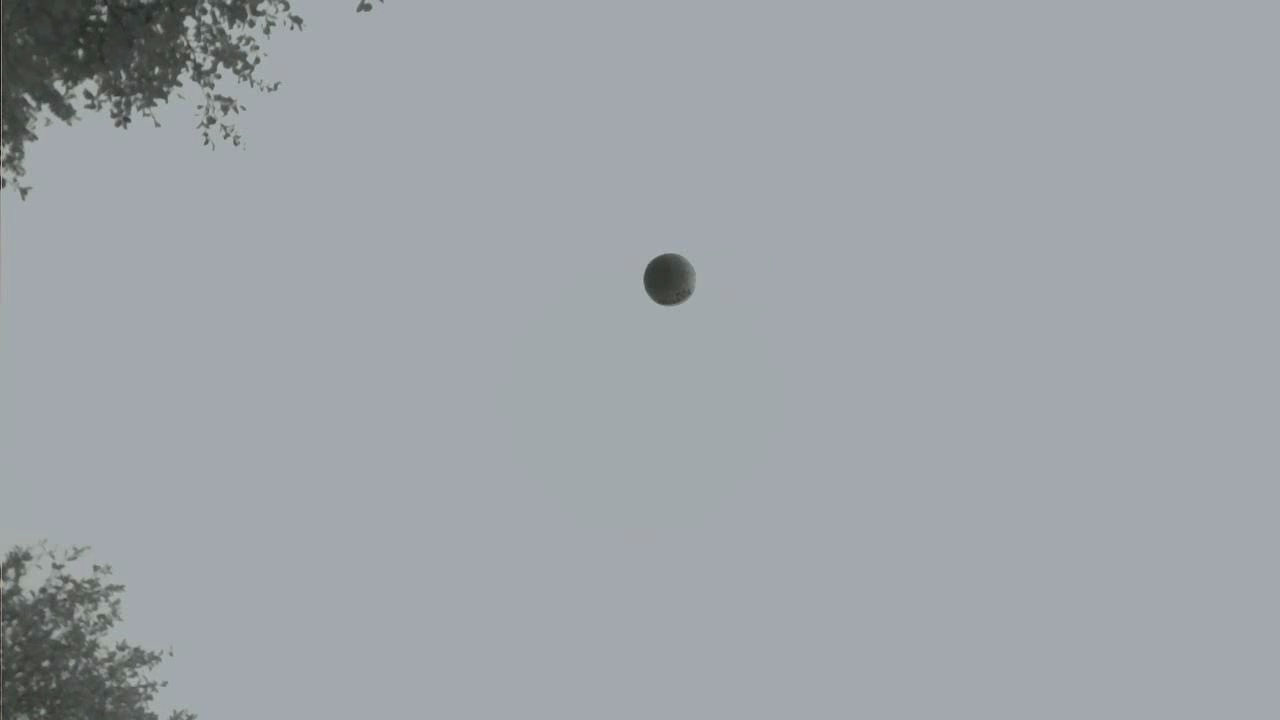Football-Spotter: (643, 254, 695, 305)
